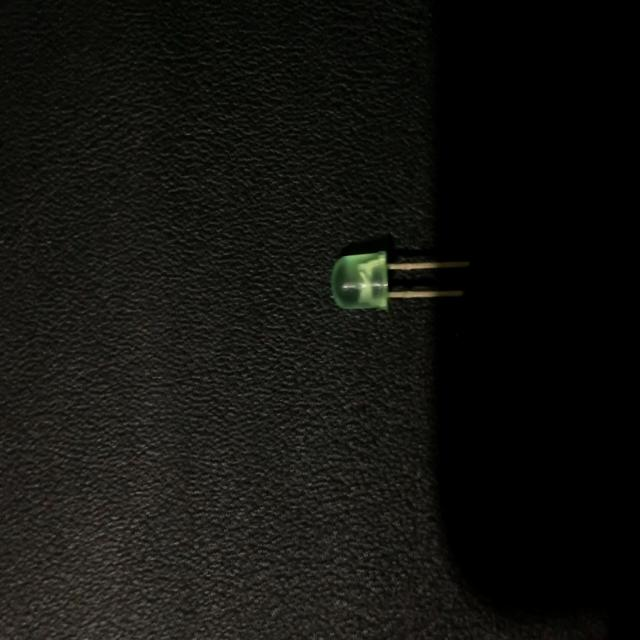LED: (328, 240, 475, 318)
